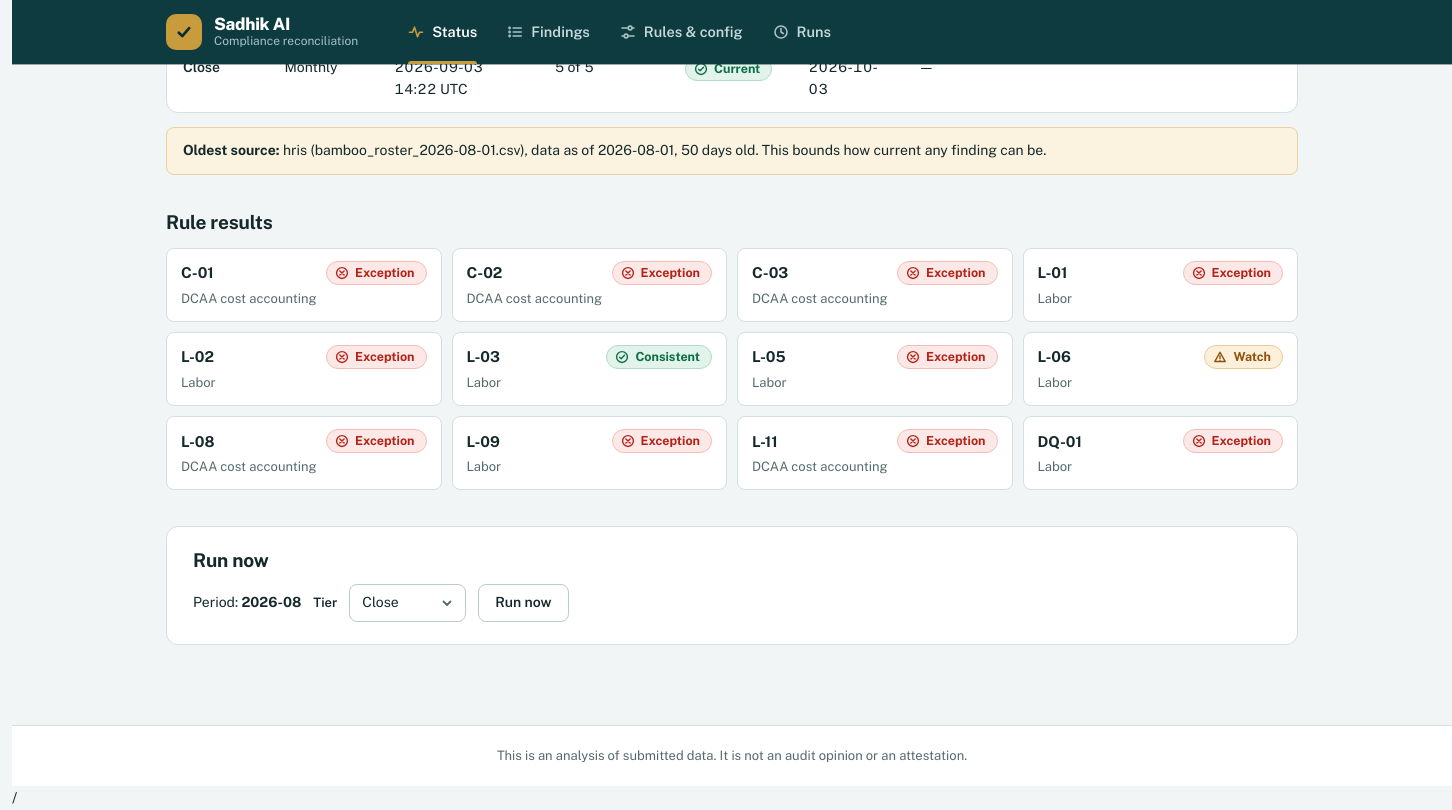
Scenario: status page › runs now for the shown period and the chosen tier, then reports the result
The image size is (1452, 810).
(page scrolled)
Select "Pay period" in the dropdown labelled "Tier" at [408, 603], box [349,584,466,622]
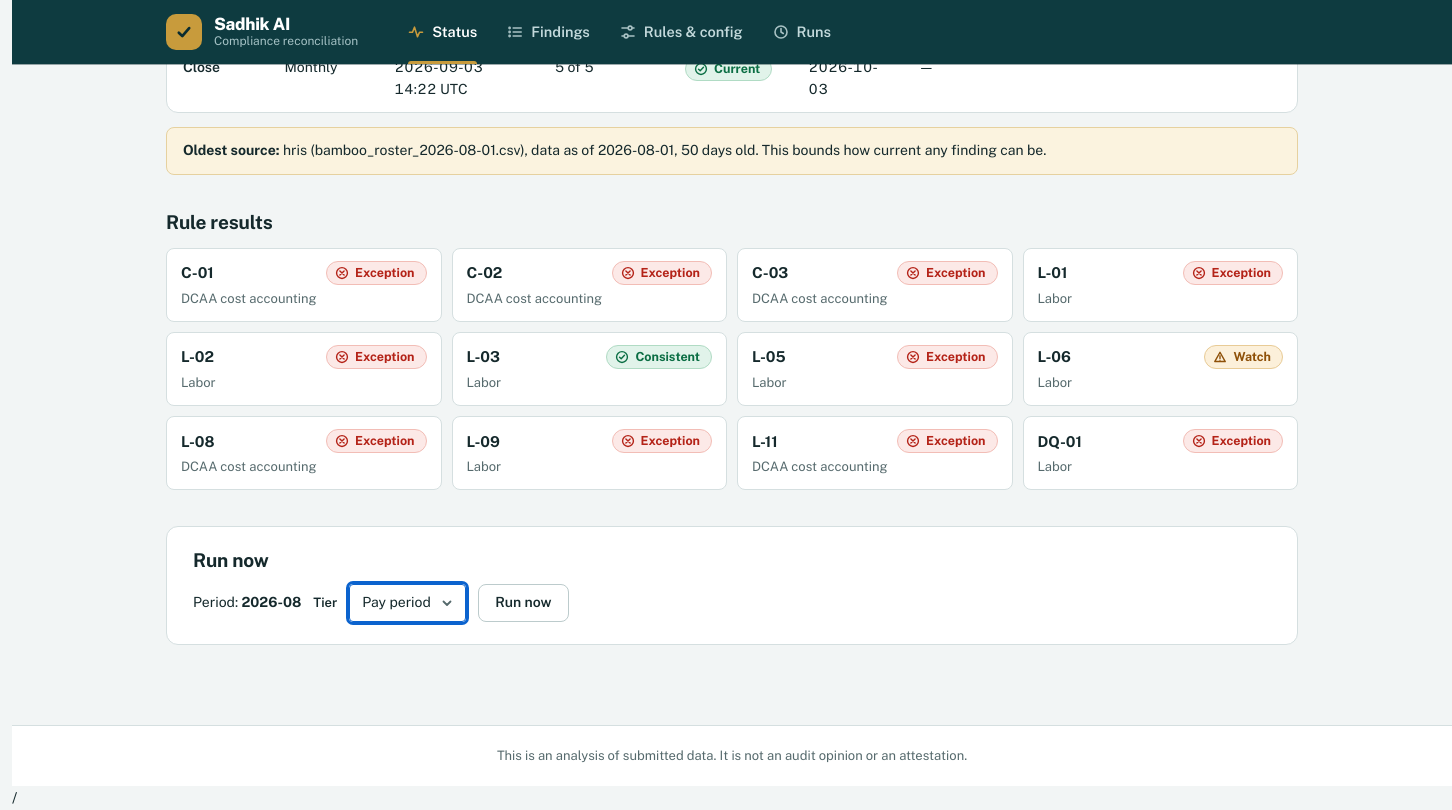
Click the button "Run now" at [523, 603], box [478,584,569,622]
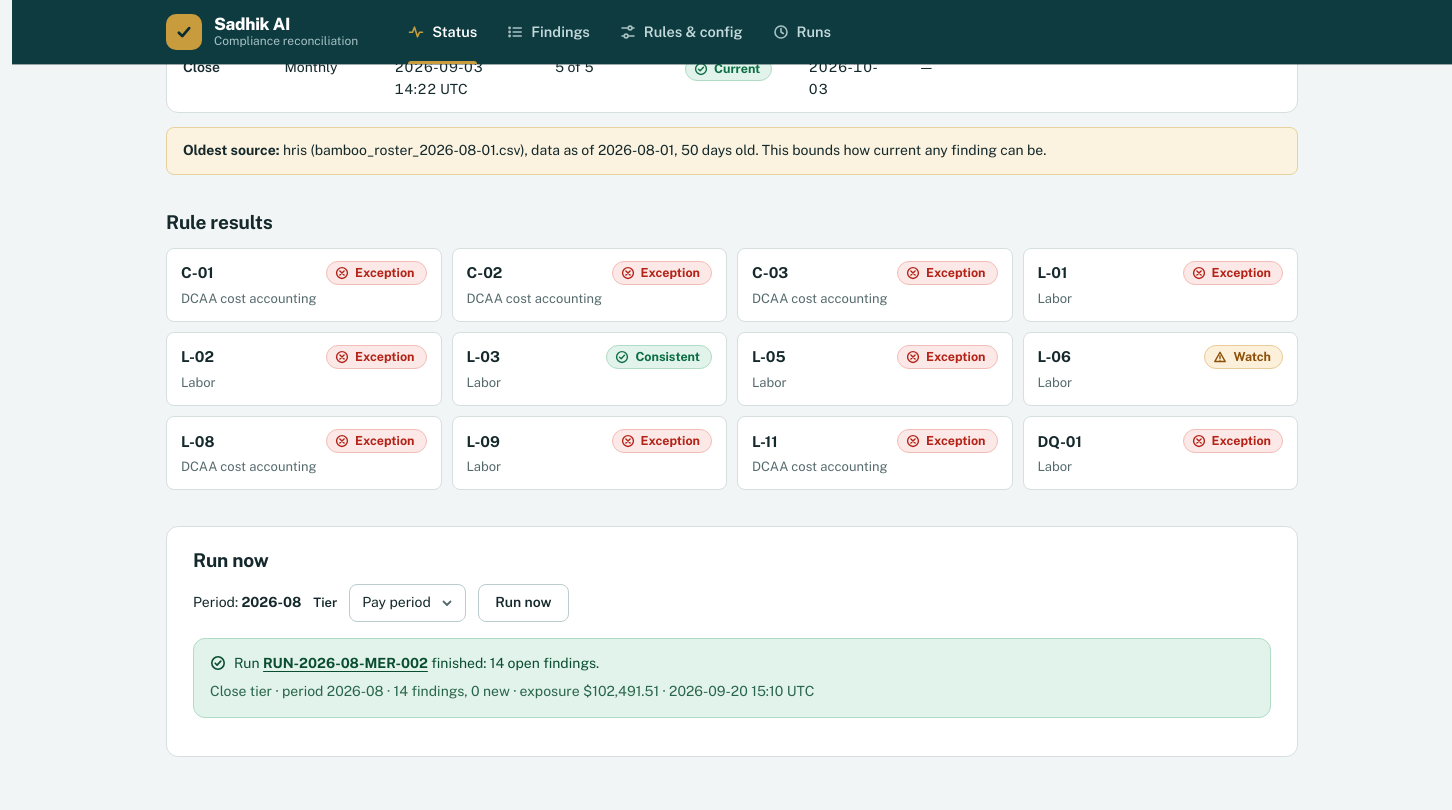
Expected: the text "Run RUN-2026-08-MER-002 finished: 14 open findings." is shown, [210,655,599,671]
